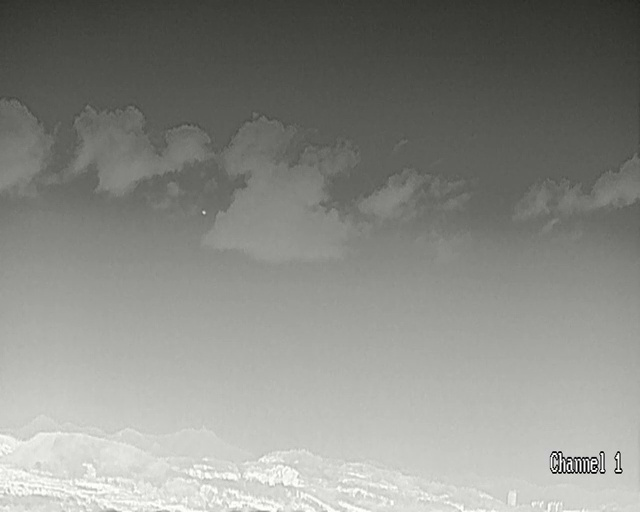uav: (201, 210, 204, 213)
